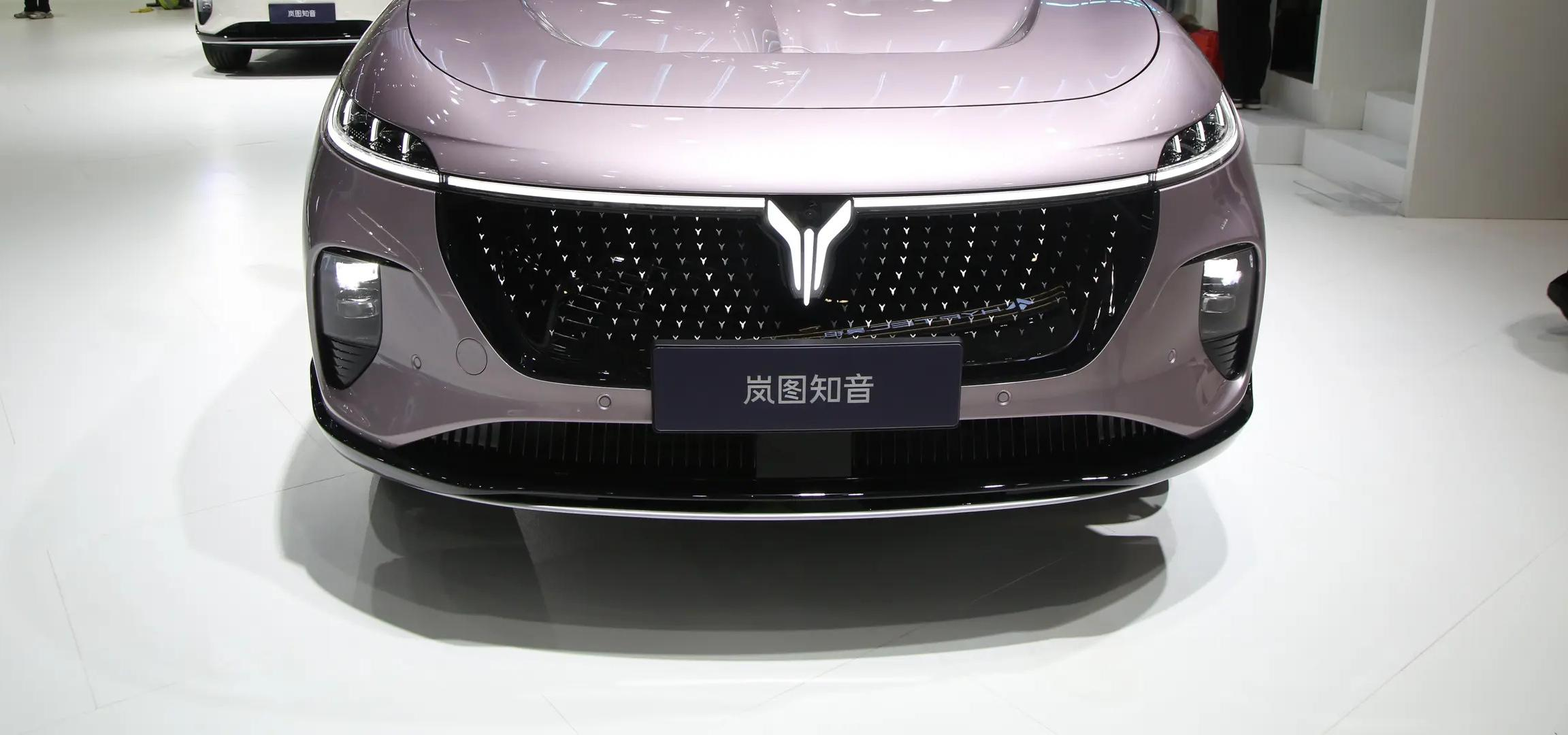VOYAH: (768, 199, 851, 306)
